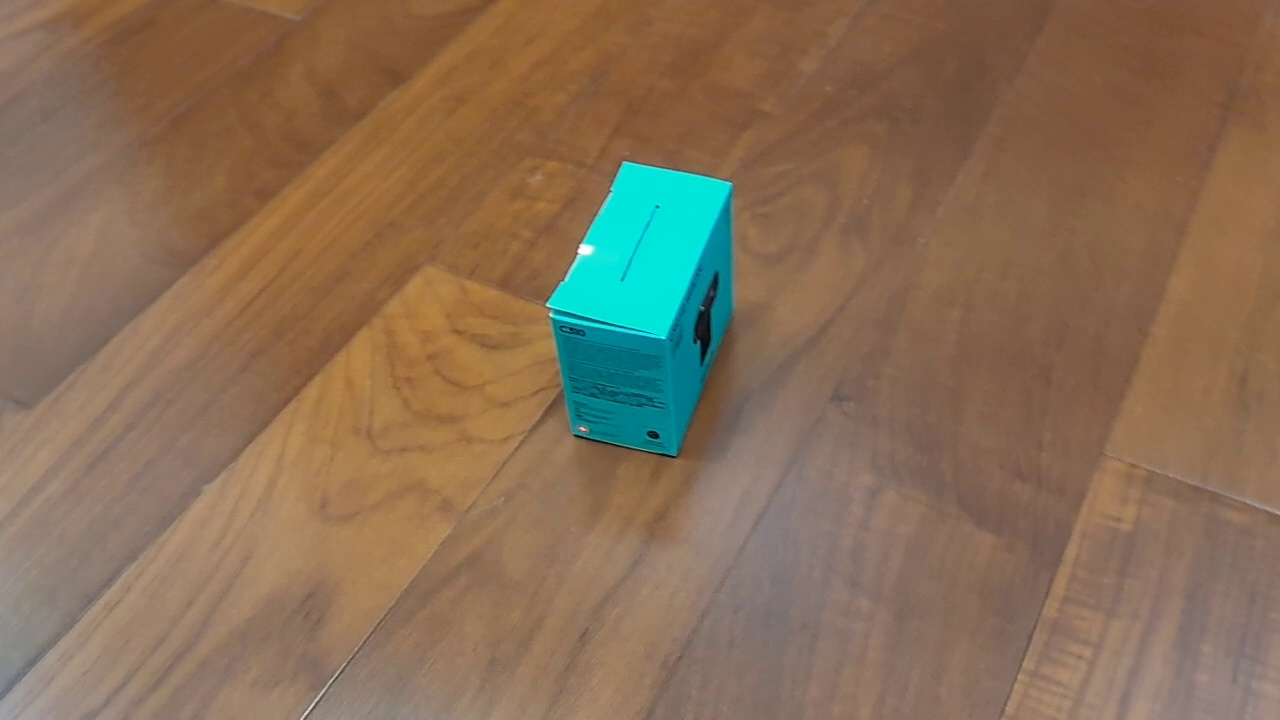webcam: (544, 160, 737, 460)
